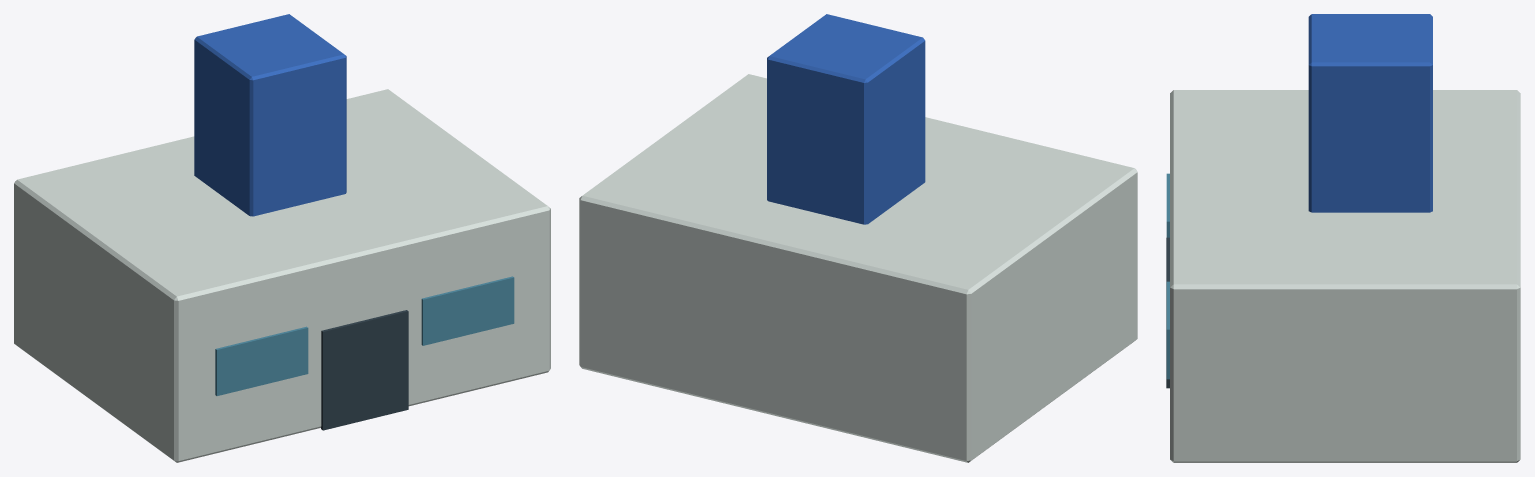
File: civic_hall-high.glb
The picture shows the model from 3 angles, left to right: view 1: azimuth 30°, elevation 25°; view 2: azimuth 150°, elevation 25°; view 3: azimuth 270°, elevation 25°; orthographic projection. The views are drawn at different scales.
Parts seen in each view (by area): view 1: Civic_Base, Civic_Tower, Civic_Entry, Civic_Wing_Glass_1, Civic_Wing_Glass_-1; view 2: Civic_Base, Civic_Tower; view 3: Civic_Base, Civic_Tower, Civic_Wing_Glass_1.
Boxes of the visible parts, x1=… form: Civic_Base: x1=14, y1=89, x2=550, y2=462; Civic_Tower: x1=194, y1=14, x2=346, y2=216; Civic_Entry: x1=321, y1=310, x2=408, y2=430; Civic_Wing_Glass_1: x1=421, y1=276, x2=514, y2=345; Civic_Wing_Glass_-1: x1=215, y1=326, x2=308, y2=395; Civic_Base: x1=579, y1=74, x2=1137, y2=462; Civic_Tower: x1=767, y1=14, x2=925, y2=224; Civic_Base: x1=1170, y1=90, x2=1520, y2=462; Civic_Tower: x1=1308, y1=14, x2=1432, y2=212; Civic_Wing_Glass_1: x1=1166, y1=281, x2=1169, y2=379.
Bounding box in the file's own units: 6.4 × 4.95 × 4.85.
